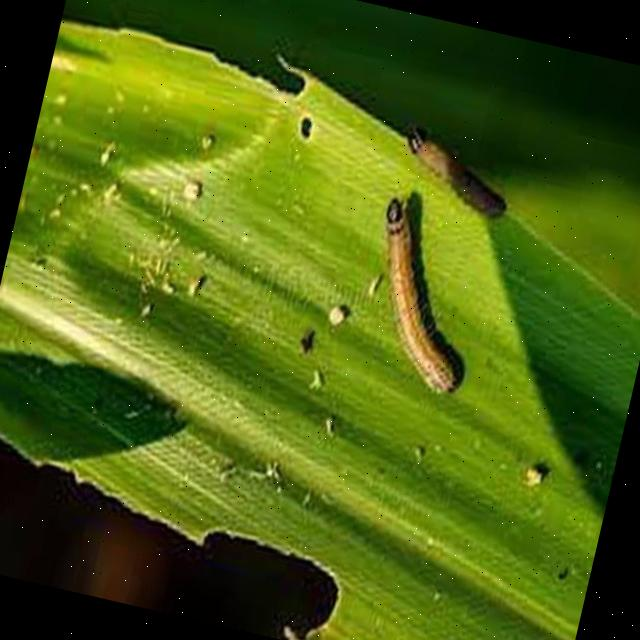worm: (347, 196, 500, 401), (392, 124, 521, 225)
